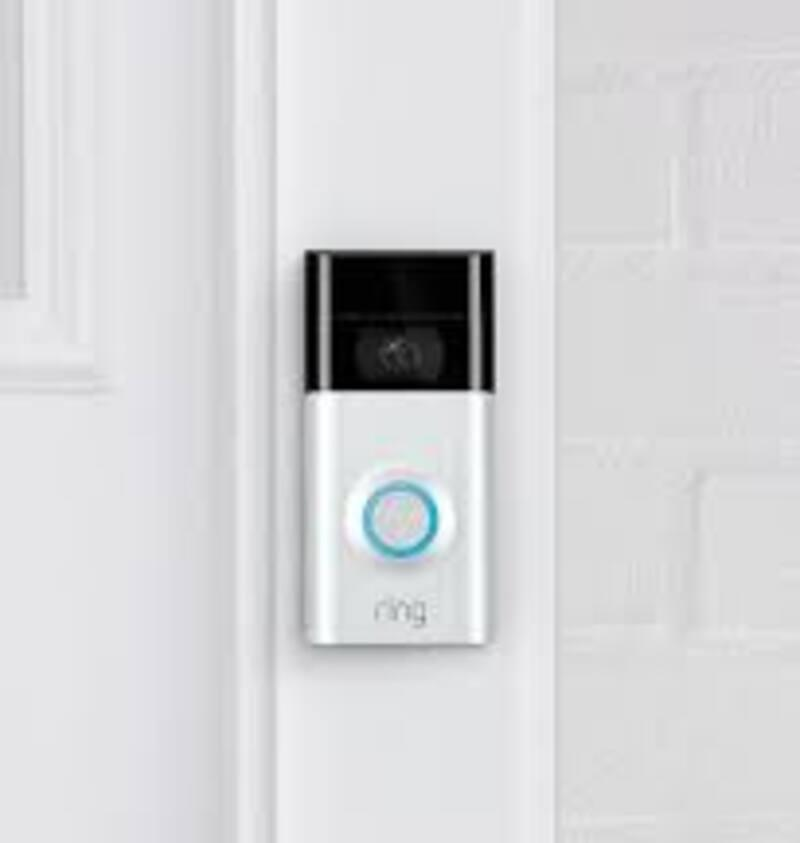doorbell: (294, 231, 494, 653)
